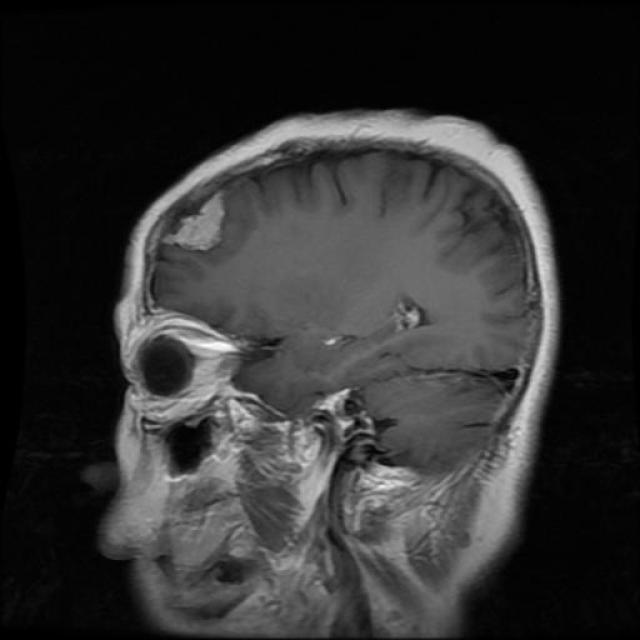meningioma: (176, 192, 224, 250)
